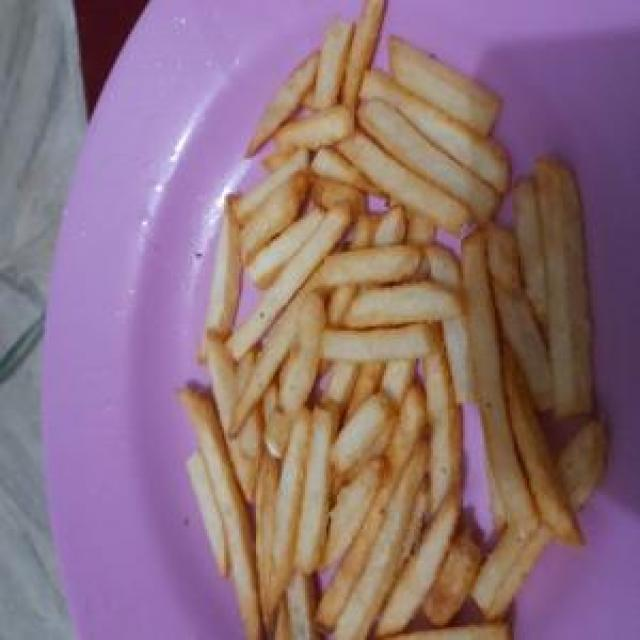French Fries: (174, 34, 596, 640)
